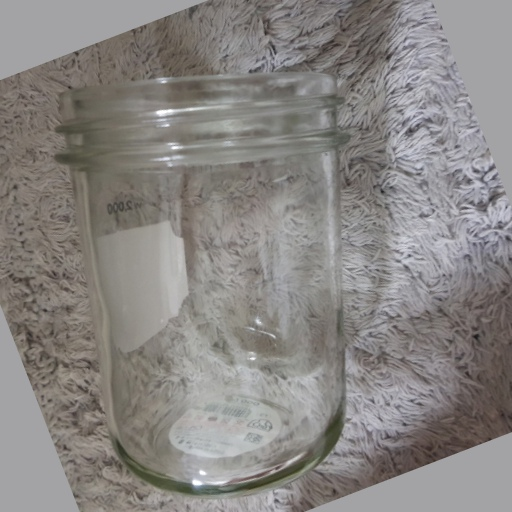Glass_5: (60, 76, 354, 490)
